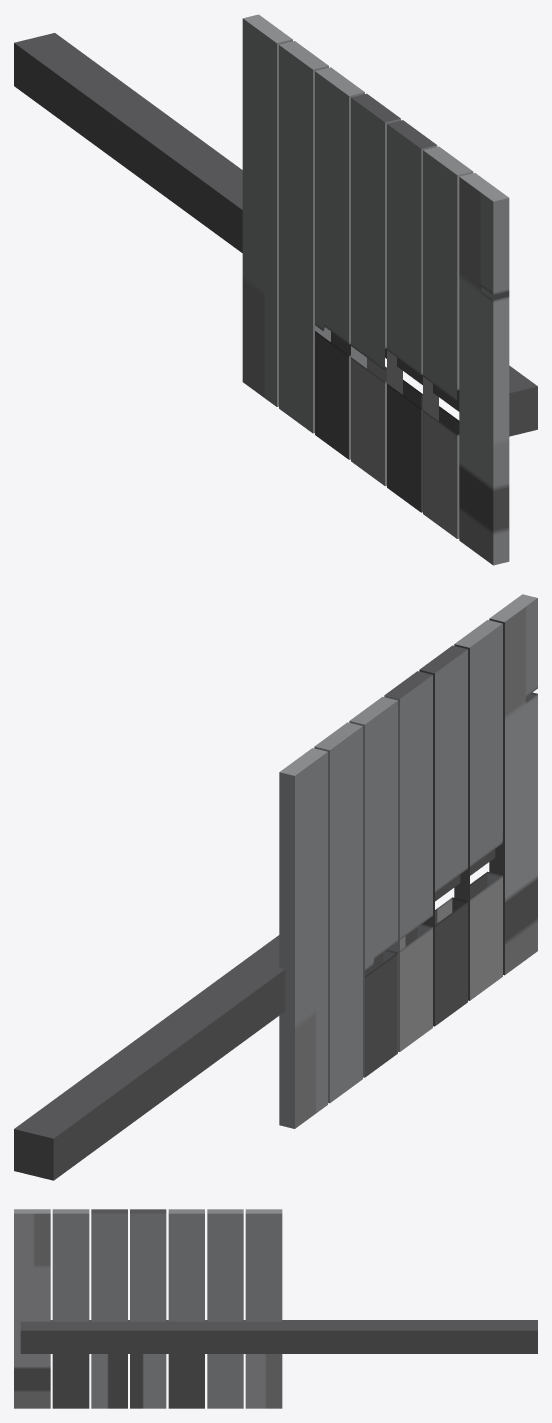
3 renders of one model, top to bottom at view 1: azimuth 30°, elevation 25°; view 2: azimuth 150°, elevation 25°; view 3: azimuth 270°, elevation 25°, orthographic. The views are drawn at different scales.
Bounding box in the file's own units: 0.1366 × 0.935 × 2.28.
